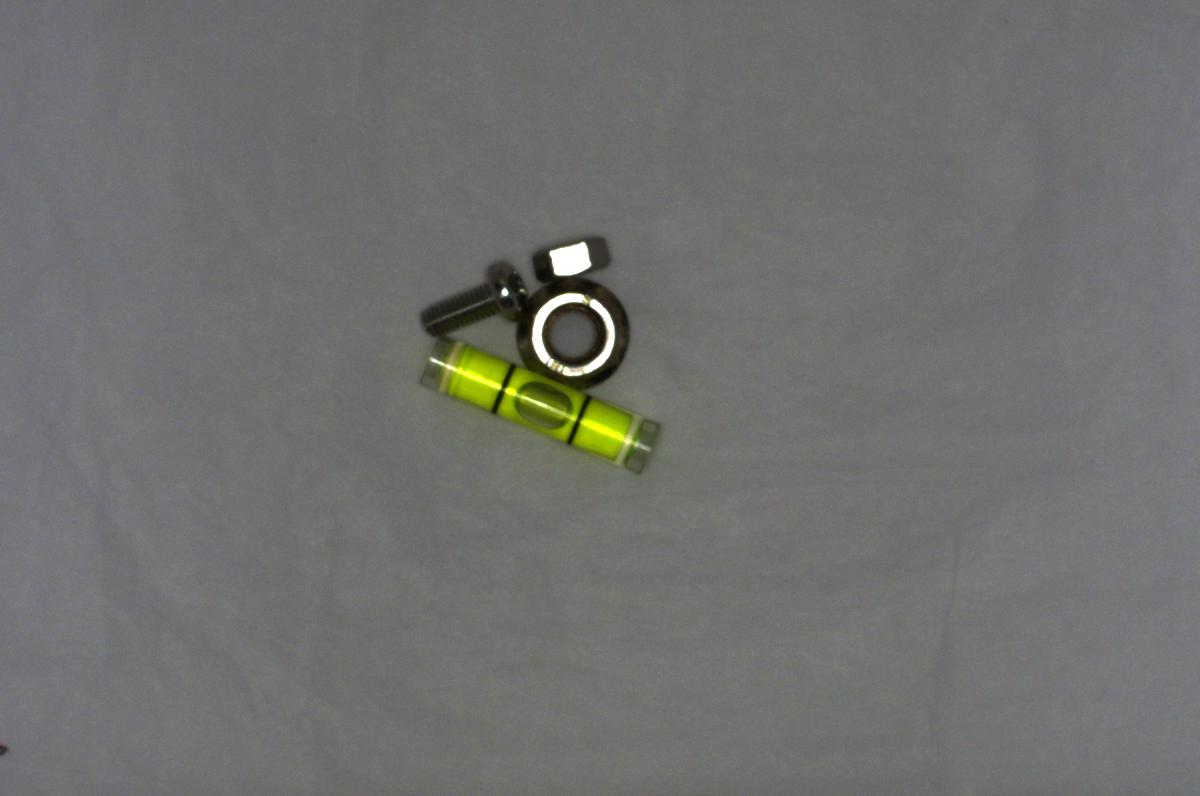Flange nut: (511, 274, 633, 389)
Hexagon nut: (531, 228, 620, 282)
Horizontal bubble: (414, 336, 664, 478)
Round head screw: (405, 248, 533, 332)
